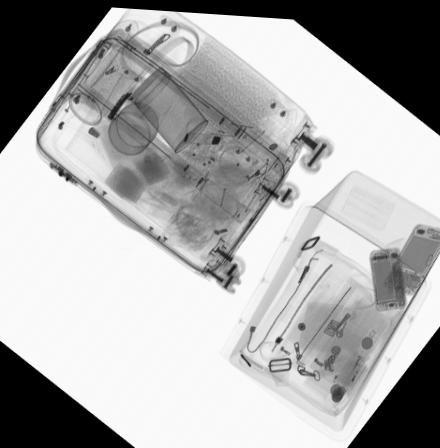Lighter: (184, 130, 225, 142)
